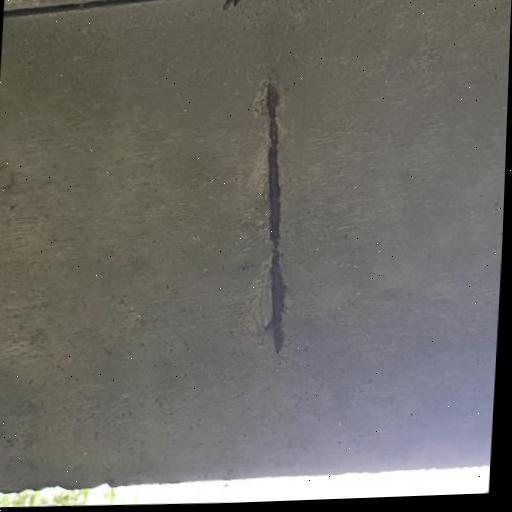exposed_rebar: (267, 84, 286, 352), (4, 0, 158, 17), (224, 0, 241, 11)
